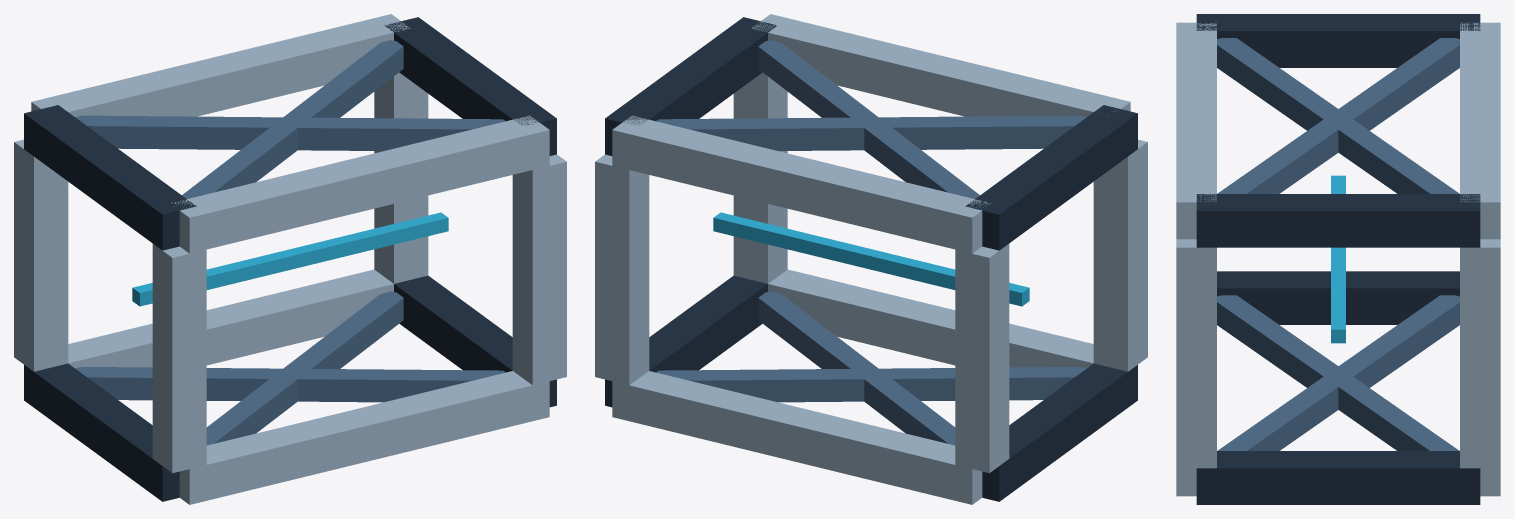
Rendered from ReinforcedTitanFrame.obj.
The picture shows the model from 3 angles, left to right: view 1: azimuth 30°, elevation 25°; view 2: azimuth 150°, elevation 25°; view 3: azimuth 270°, elevation 25°; orthographic projection. The views are drawn at different scales.
Visible parts, largest first — view 1: SM_ReinforcedTitanFrame; view 2: SM_ReinforcedTitanFrame; view 3: SM_ReinforcedTitanFrame.
Part boxes in pixels (left/top/right/bottom): SM_ReinforcedTitanFrame: left=14, top=14, right=566, bottom=504; SM_ReinforcedTitanFrame: left=595, top=14, right=1147, bottom=504; SM_ReinforcedTitanFrame: left=1176, top=14, right=1500, bottom=504.
Size of the model in its own units: 92 by 64 by 64.
